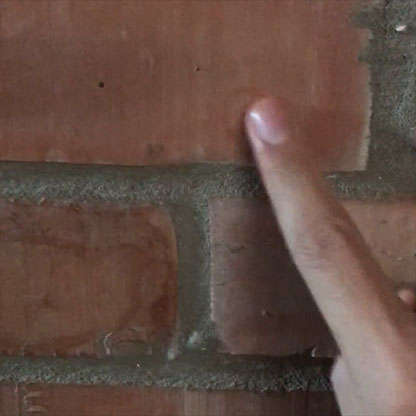fingertip: (235, 88, 318, 158)
